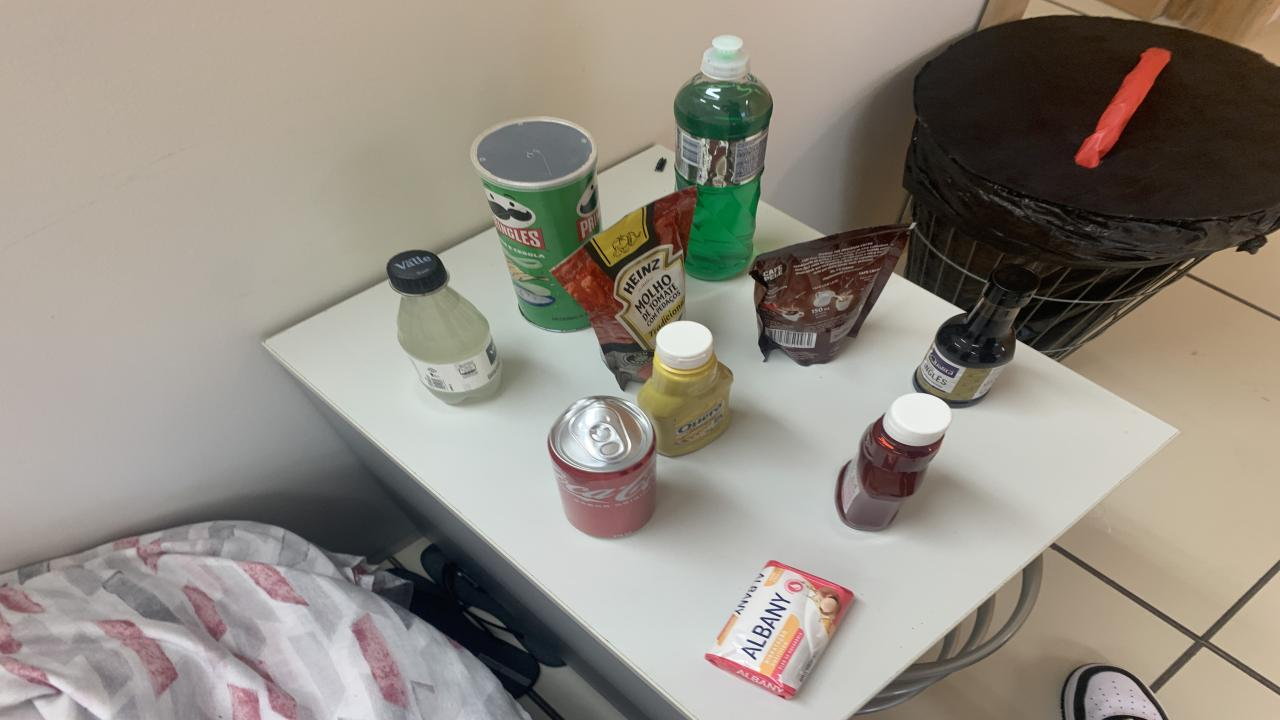Coffee-Pantry_Items: (750, 223, 910, 366)
Coke-Drinks: (548, 396, 655, 538)
Detergent-Cleanup_Items: (675, 36, 772, 281)
English_Sauce-Pantry_Items: (912, 264, 1040, 407)
Ketchup-Pantry_Items: (835, 392, 952, 531)
Mustard-Pantry_Items: (638, 321, 732, 456)
Pringles-Snacks: (470, 116, 602, 332)
Soap-Cleanup_Items: (705, 561, 852, 699)
Soda-Drinks: (388, 249, 500, 403)
Tomato_Sauce-Pantry_Items: (550, 188, 698, 390)
